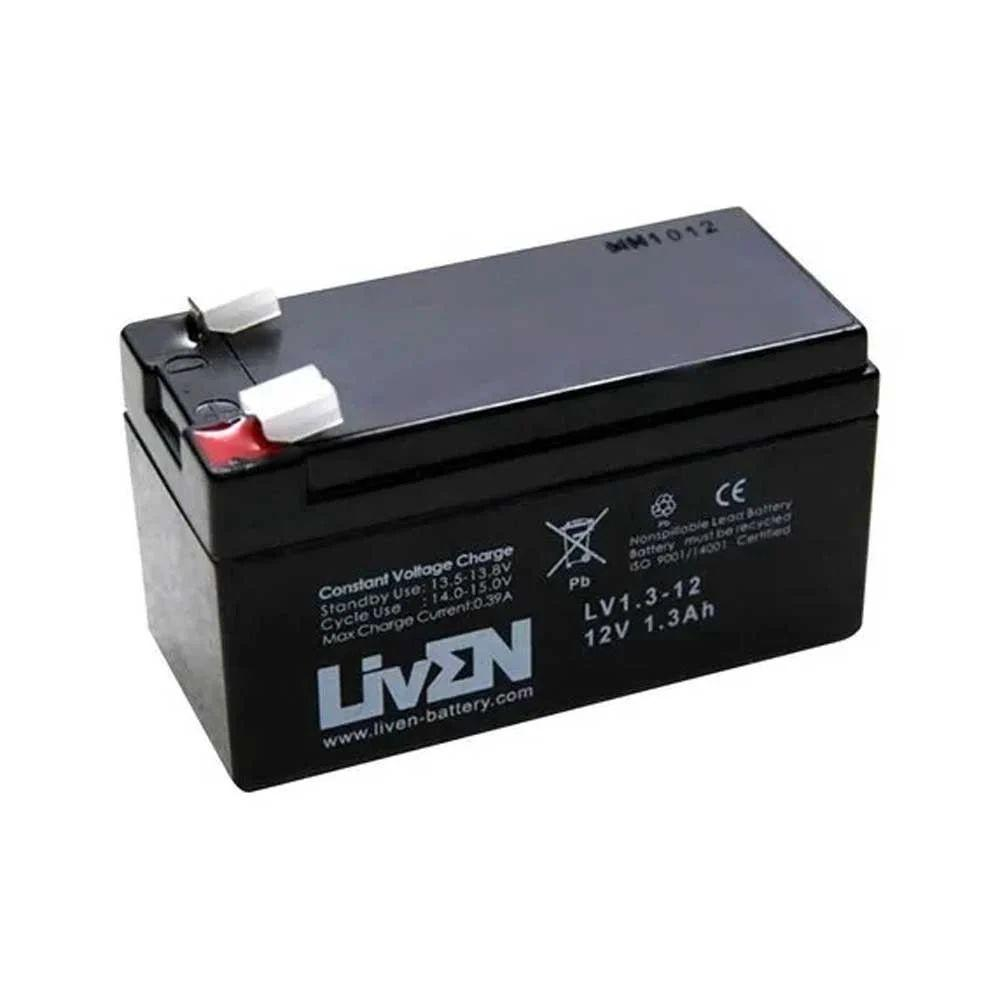battery: (114, 194, 886, 798)
